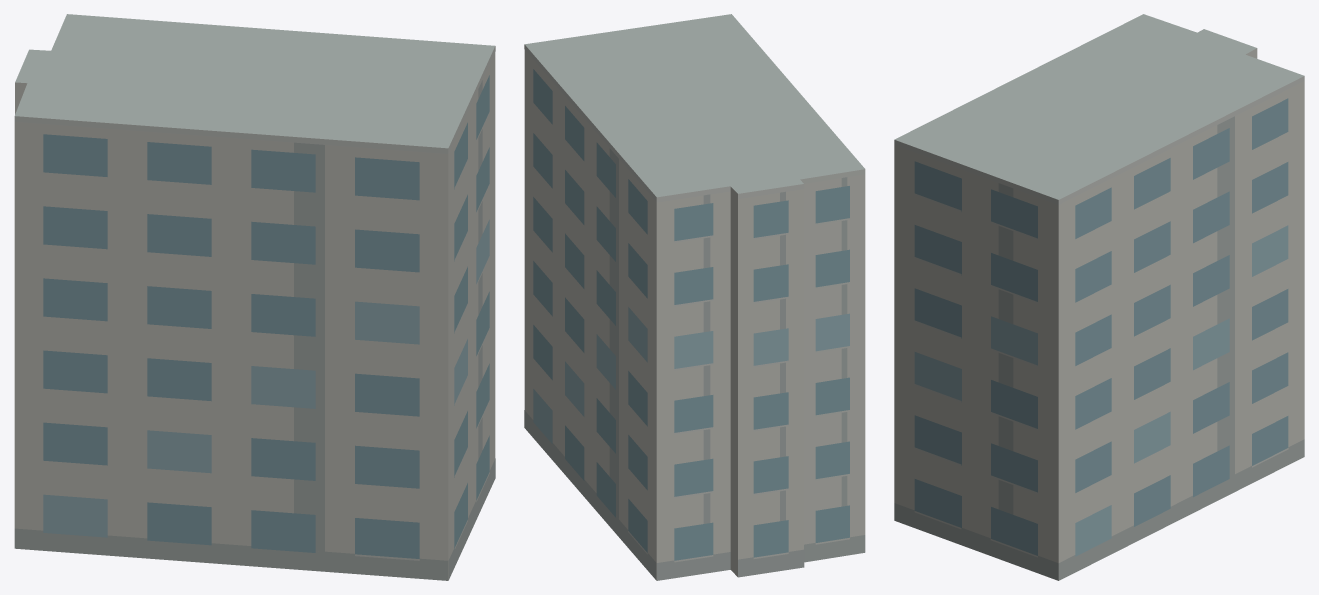
The model's file is survey-upis-32553284.glb.
3 views of the same model, side by side, from view 1: azimuth 30°, elevation 25°; view 2: azimuth 150°, elevation 25°; view 3: azimuth 270°, elevation 25° (orthographic). The views are drawn at different scales.
Visible parts, largest first — view 1: survey-upis-32553284.tmp; view 2: survey-upis-32553284.tmp; view 3: survey-upis-32553284.tmp.
Part boxes in pixels (x1=…): survey-upis-32553284.tmp: x1=14, y1=14, x2=495, y2=580; survey-upis-32553284.tmp: x1=524, y1=14, x2=865, y2=580; survey-upis-32553284.tmp: x1=894, y1=14, x2=1304, y2=580.
Bounding box in the file's own units: 19.16 × 18.3 × 17.88.
